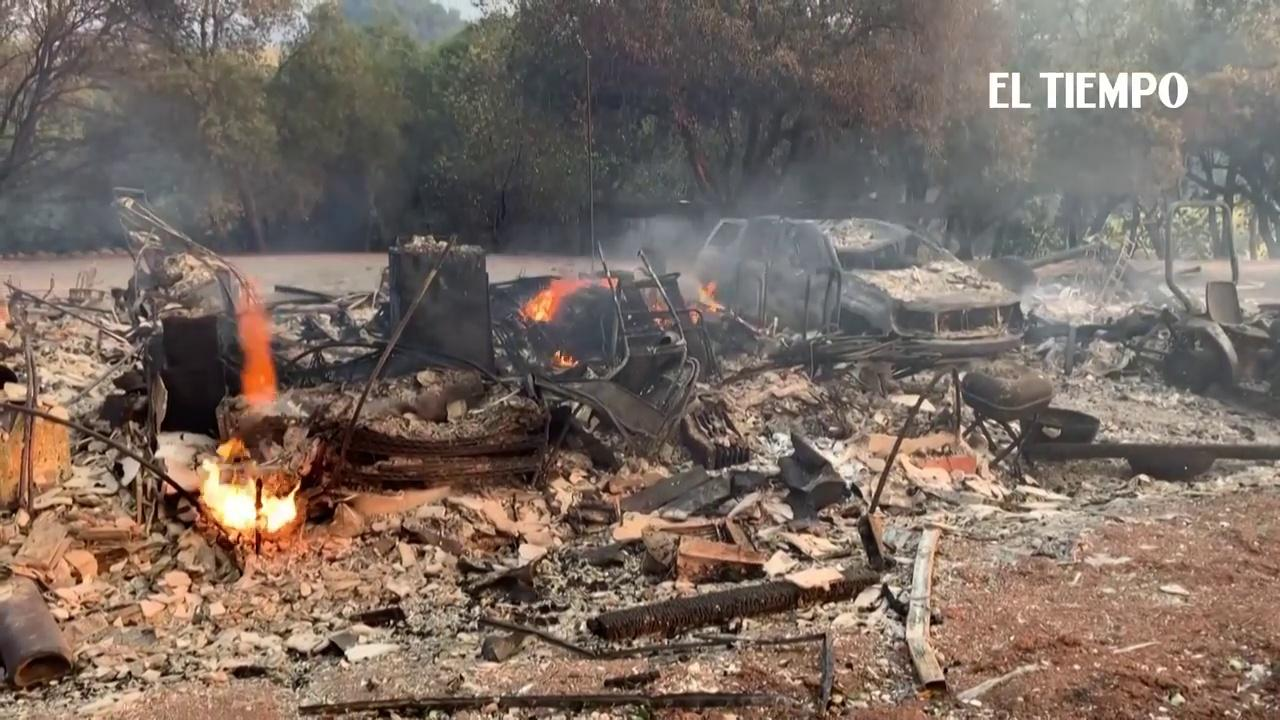Fire: (203, 451, 305, 530), (232, 273, 286, 407), (523, 277, 582, 319), (699, 281, 728, 312), (554, 347, 581, 370)
